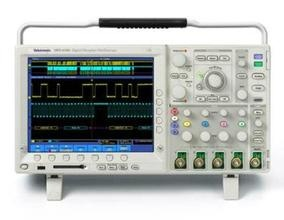Oscilloscope: (7, 14, 275, 210)
